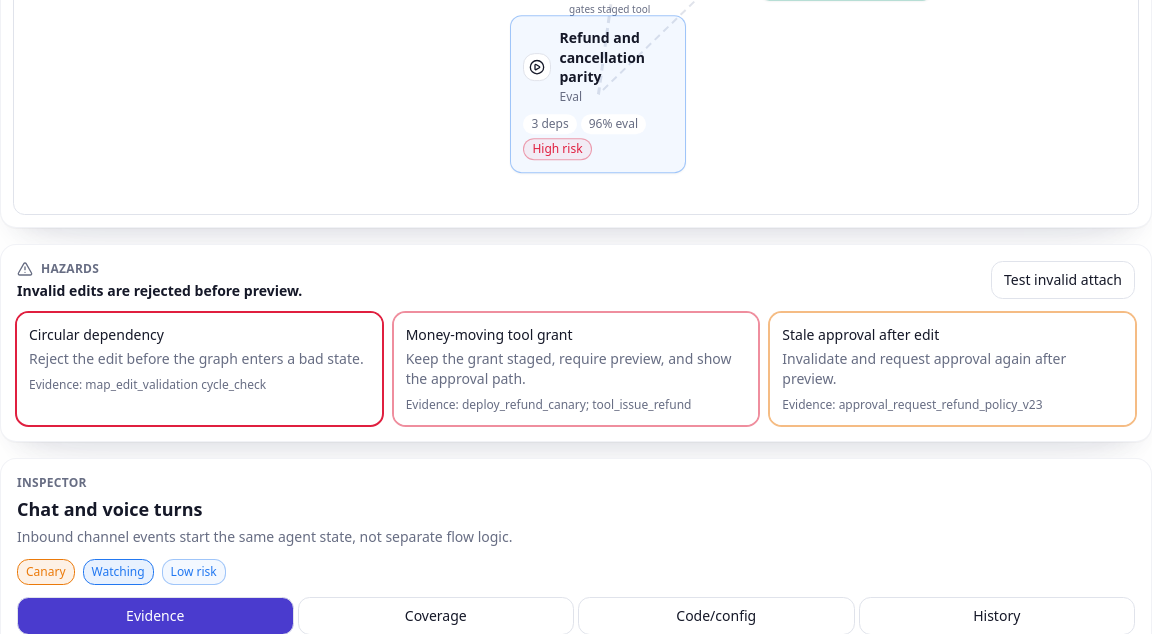
it: AgentMap › rejects invalid circular edits before the map changes
The width and height of the screenshot is (1152, 634).
(page scrolled)
Click the button with test id "agent-map-invalid-edit": click(1063, 280) top-left (991, 261), bottom-right (1135, 299)
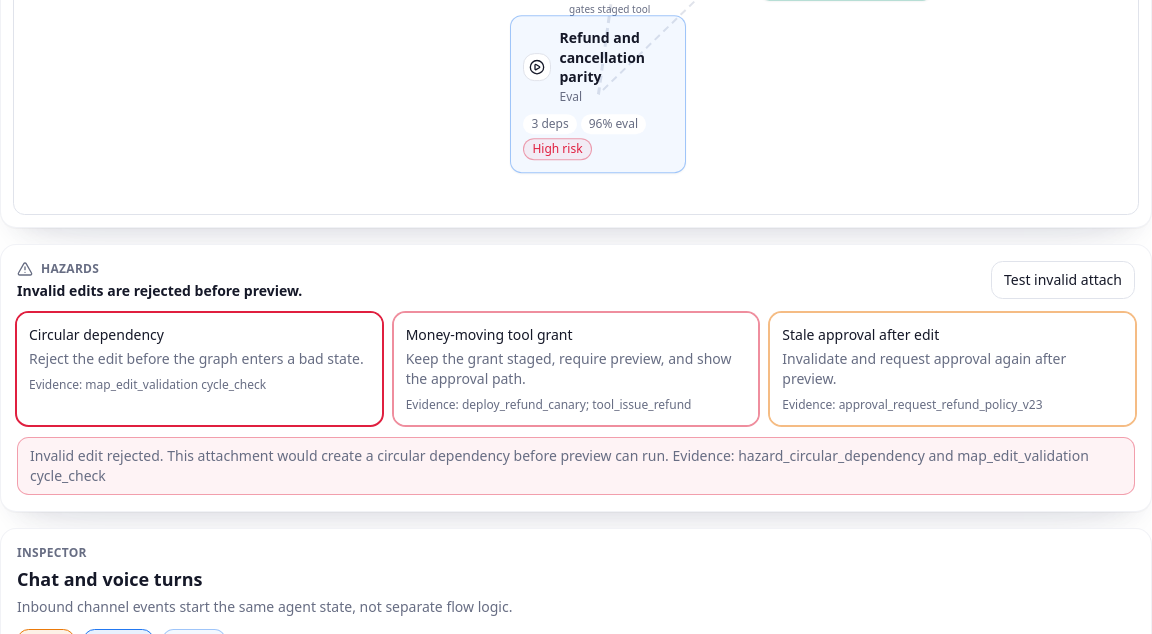
expect the message shows "Invalid edit rejected": met, box top-left (30, 446), bottom-right (669, 465)
expect the message shows "hazard_circular_dependency": met, box top-left (30, 446), bottom-right (1089, 485)
